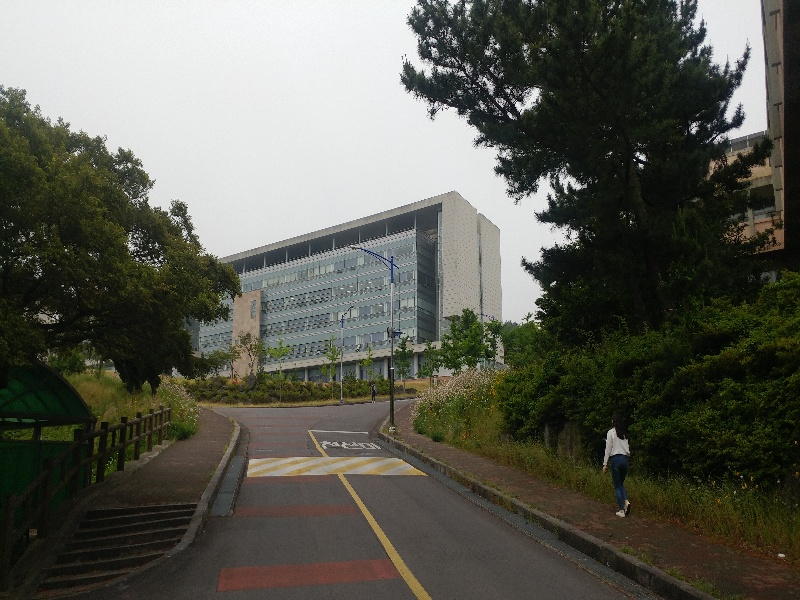Engineering College Building 4: (203, 202, 513, 374), (249, 227, 500, 343)
